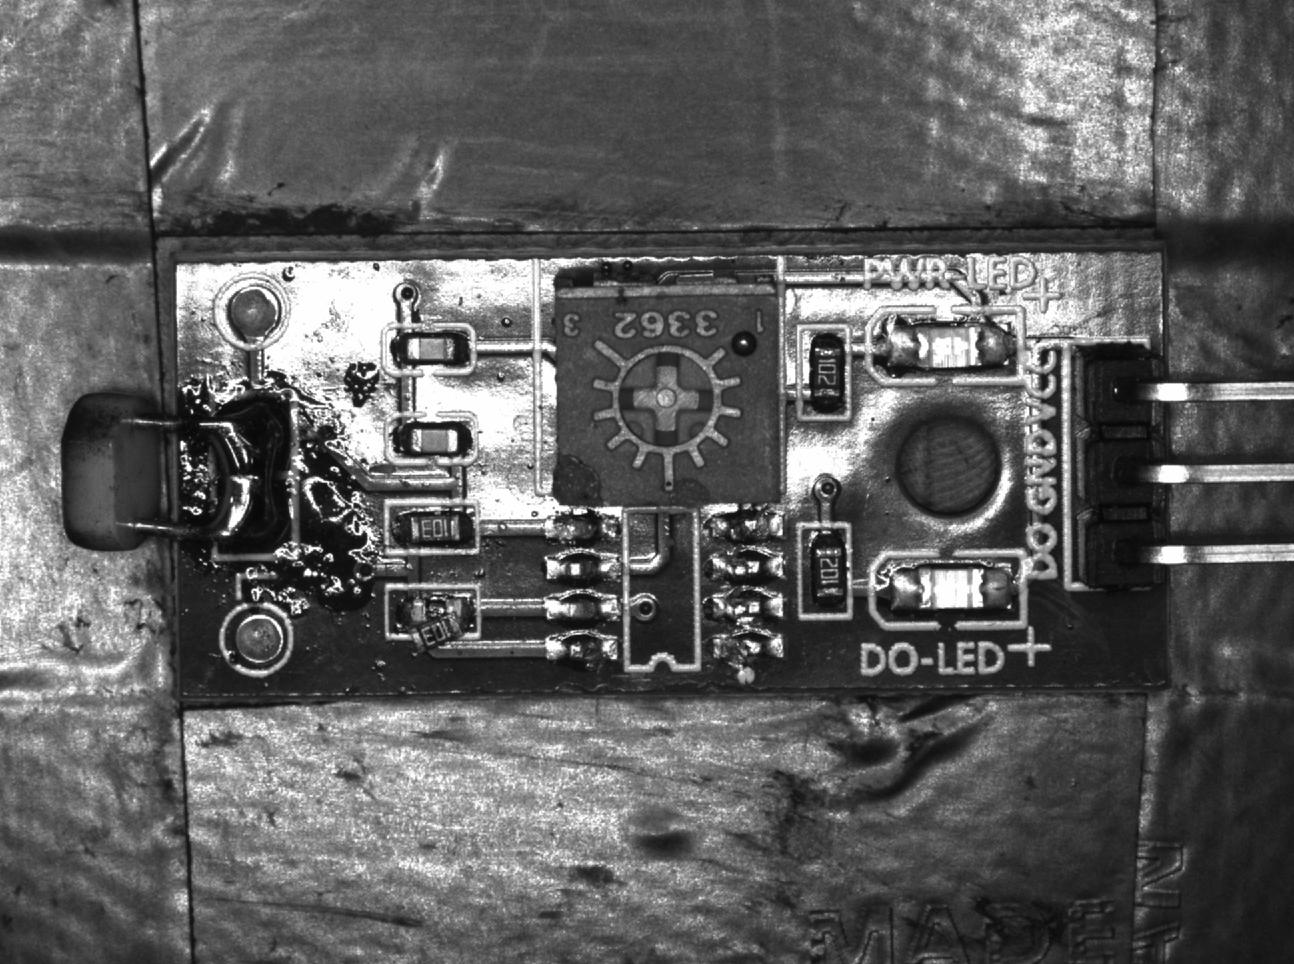bridge: (216, 394, 296, 564)
lifted: (390, 581, 481, 666)
ok: (794, 523, 851, 626), (381, 413, 480, 470), (381, 320, 478, 376), (803, 320, 848, 424), (385, 500, 479, 549)
